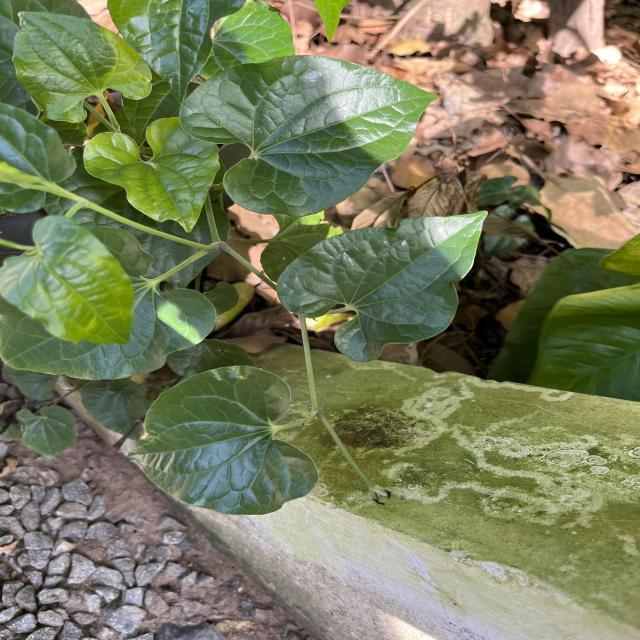Piper longum: (177, 51, 442, 219), (274, 208, 490, 364), (124, 364, 320, 517), (80, 116, 222, 234), (10, 9, 154, 124)
